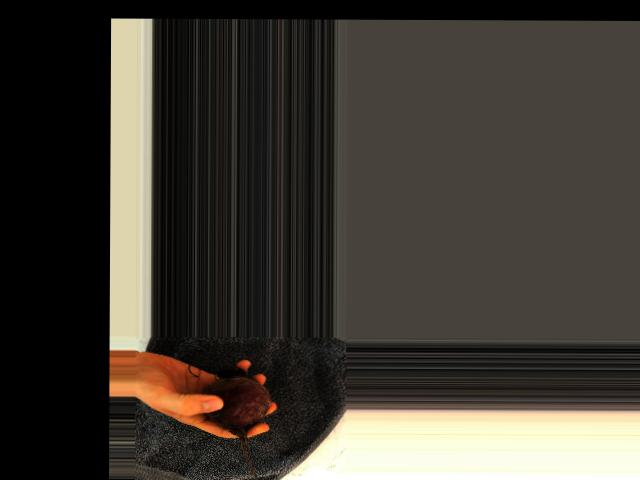beet: (202, 369, 271, 480)
